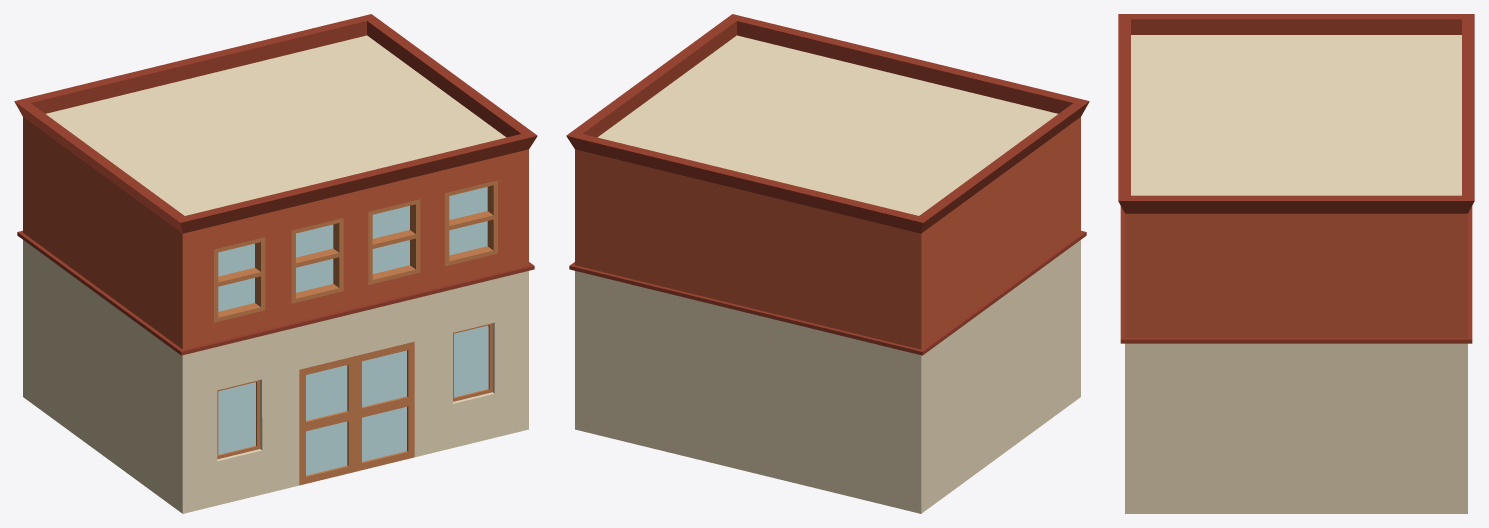
The model's file is commercial_house_02.fbx.
The picture shows the model from 3 angles, left to right: view 1: azimuth 30°, elevation 25°; view 2: azimuth 150°, elevation 25°; view 3: azimuth 270°, elevation 25°; orthographic projection. The views are drawn at different scales.
Visible parts, largest first — view 1: Box290; view 2: Box290; view 3: Box290.
Boxes of the visible parts, bbox=[...] form: Box290: bbox=[14, 14, 537, 513]; Box290: bbox=[566, 14, 1089, 513]; Box290: bbox=[1118, 14, 1474, 513].
Bounding box in the file's own units: 1032 × 813 × 832.
1 material, 1 textured.
